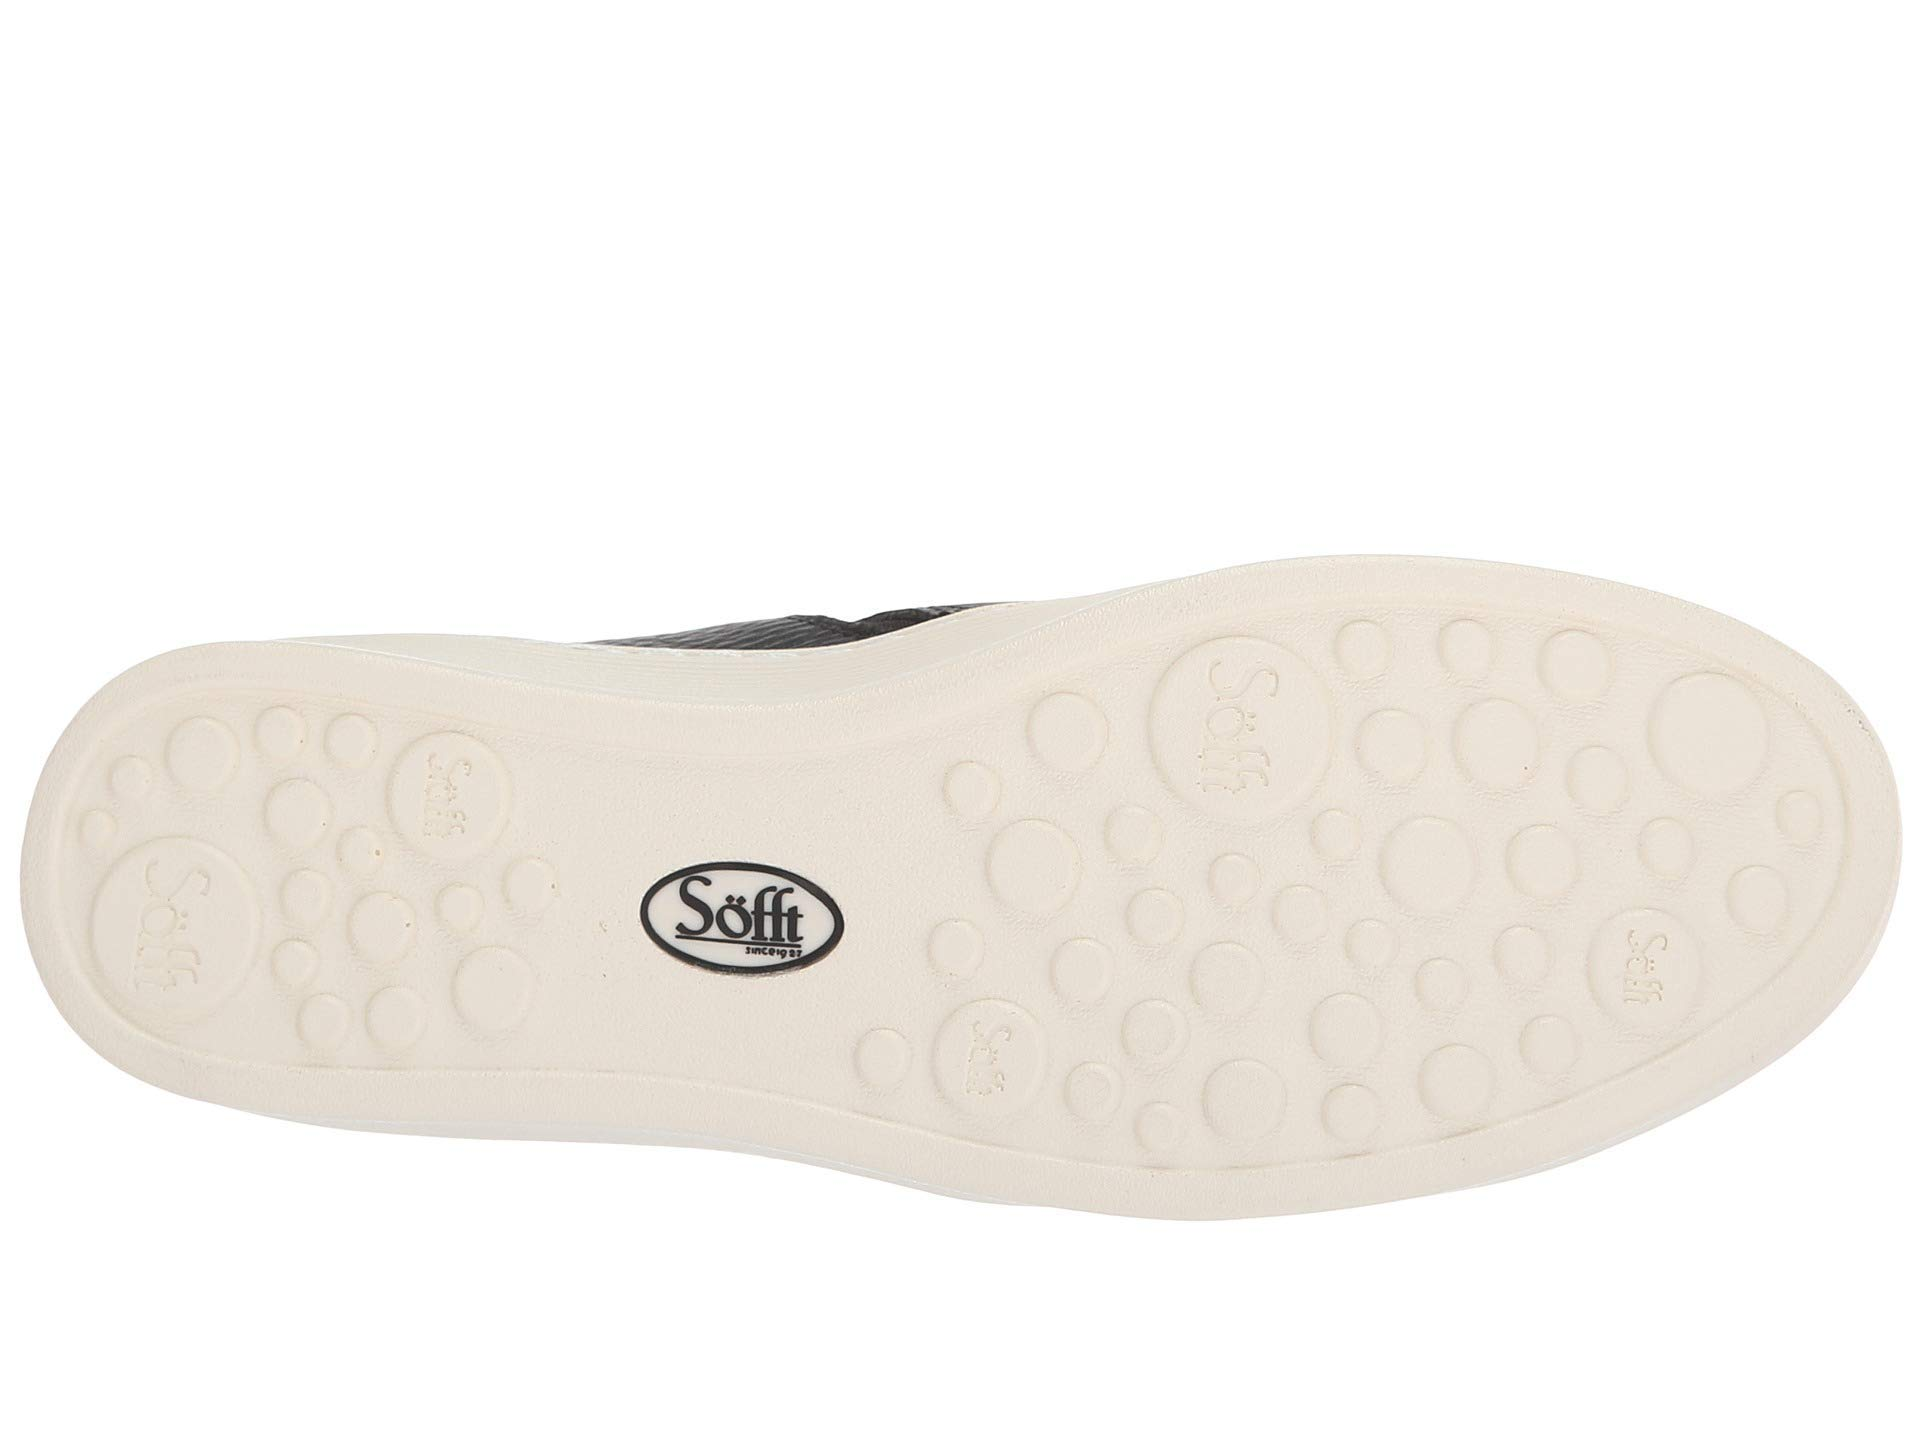circle: (1049, 635, 1516, 1136), (141, 722, 573, 1103)
text: (1049, 635, 1516, 1136), (141, 722, 573, 1103)
